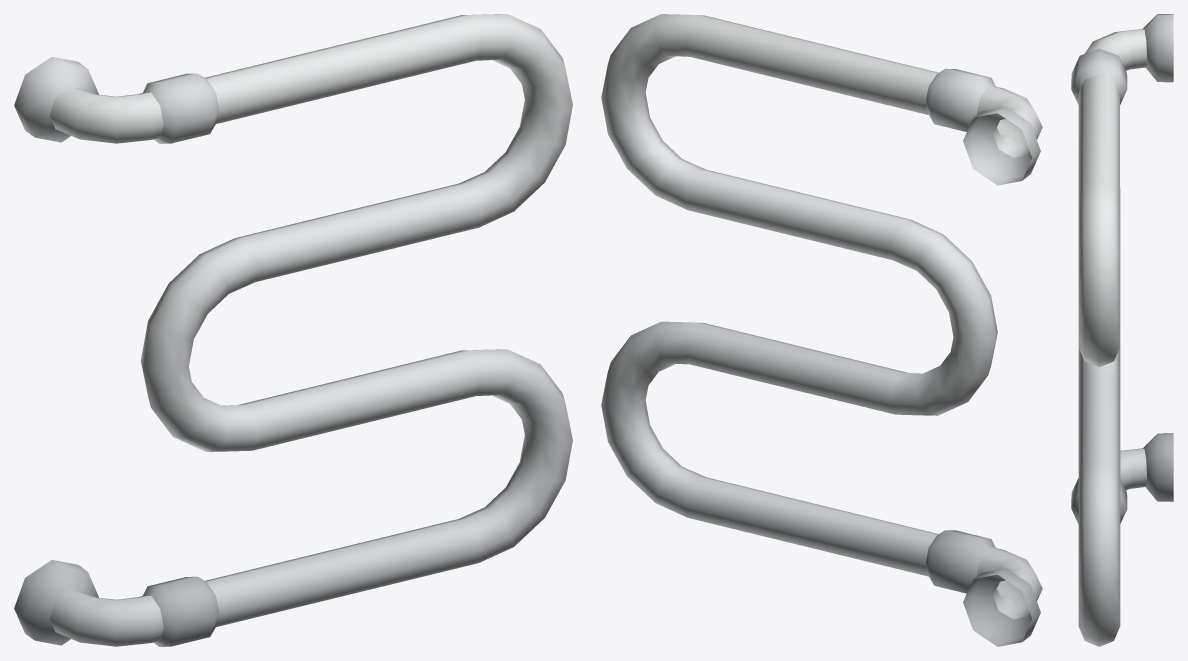
The model's file is Bath_Prop_08.glb.
The picture shows the model from 3 angles, left to right: view 1: azimuth 30°, elevation 25°; view 2: azimuth 150°, elevation 25°; view 3: azimuth 270°, elevation 25°; orthographic projection. The views are drawn at different scales.
Parts seen in each view (by area): view 1: Bath_Prop_08; view 2: Bath_Prop_08; view 3: Bath_Prop_08.
Boxes of the visible parts, x1,y1,x2,y2 form: Bath_Prop_08: (14,14,572,646); Bath_Prop_08: (601,14,1042,646); Bath_Prop_08: (1071,14,1173,646).
Size of the model in its own units: 0.559 by 0.6074 by 0.1161.
Materials: 1 (1 with a texture image).
